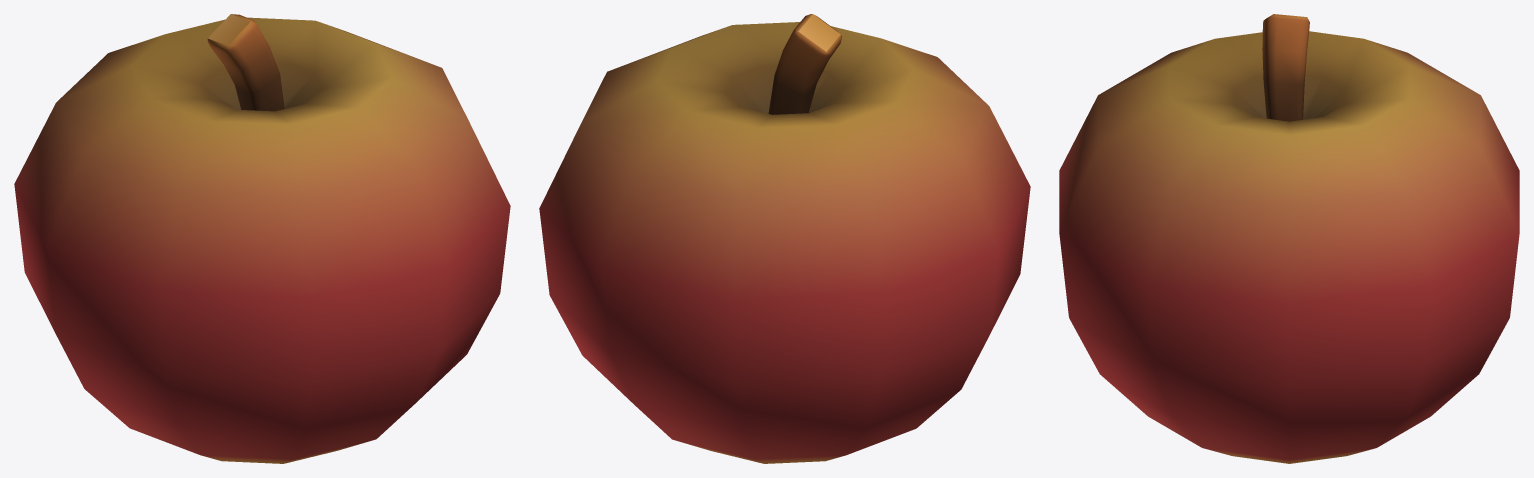
Rendered from Apple.fbx.
The picture shows the model from 3 angles, left to right: view 1: azimuth 30°, elevation 25°; view 2: azimuth 150°, elevation 25°; view 3: azimuth 270°, elevation 25°; orthographic projection. The views are drawn at different scales.
Parts seen in each view (by area): view 1: Apple; view 2: Apple; view 3: Apple.
Part boxes in pixels (x1=…): Apple: x1=14, y1=14, x2=510, y2=463; Apple: x1=539, y1=14, x2=1030, y2=463; Apple: x1=1059, y1=14, x2=1519, y2=463.
Size of the model in its own units: 132 by 120 by 125.
